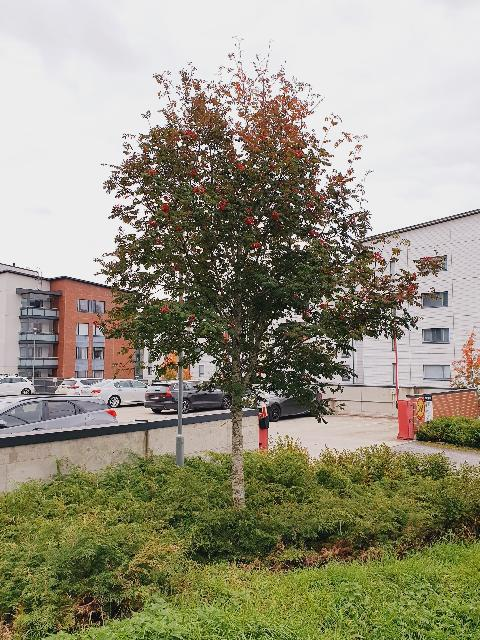rowan: (84, 31, 454, 523)
